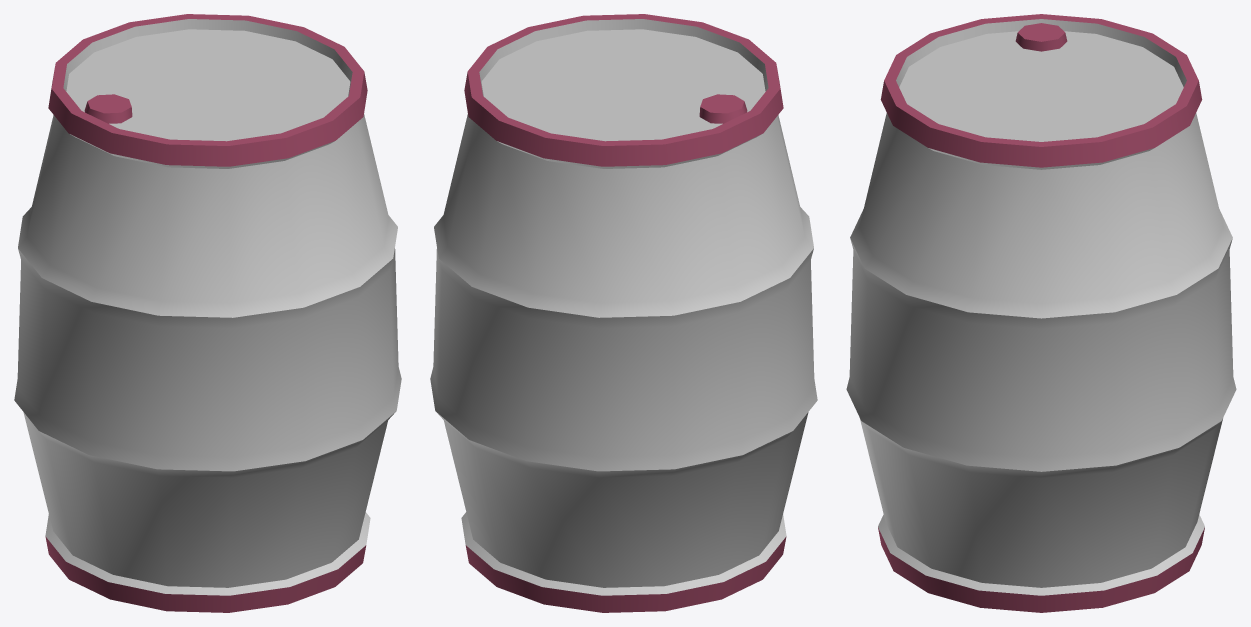
Rendered from M_Barrel.fbx.
3 views of the same model, side by side, from view 1: azimuth 30°, elevation 25°; view 2: azimuth 150°, elevation 25°; view 3: azimuth 270°, elevation 25° (orthographic).
Visible parts, largest first — view 1: M_Barrel; view 2: M_Barrel; view 3: M_Barrel.
Part boxes in pixels (box(x1,y1,x2,y2)): M_Barrel: box(14, 14, 401, 612); M_Barrel: box(430, 14, 817, 612); M_Barrel: box(846, 14, 1236, 612).
Size of the model in its own units: 0.4154 by 0.5463 by 0.4154.
